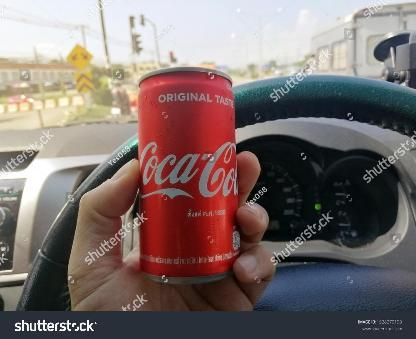Can: (137, 65, 241, 285)
